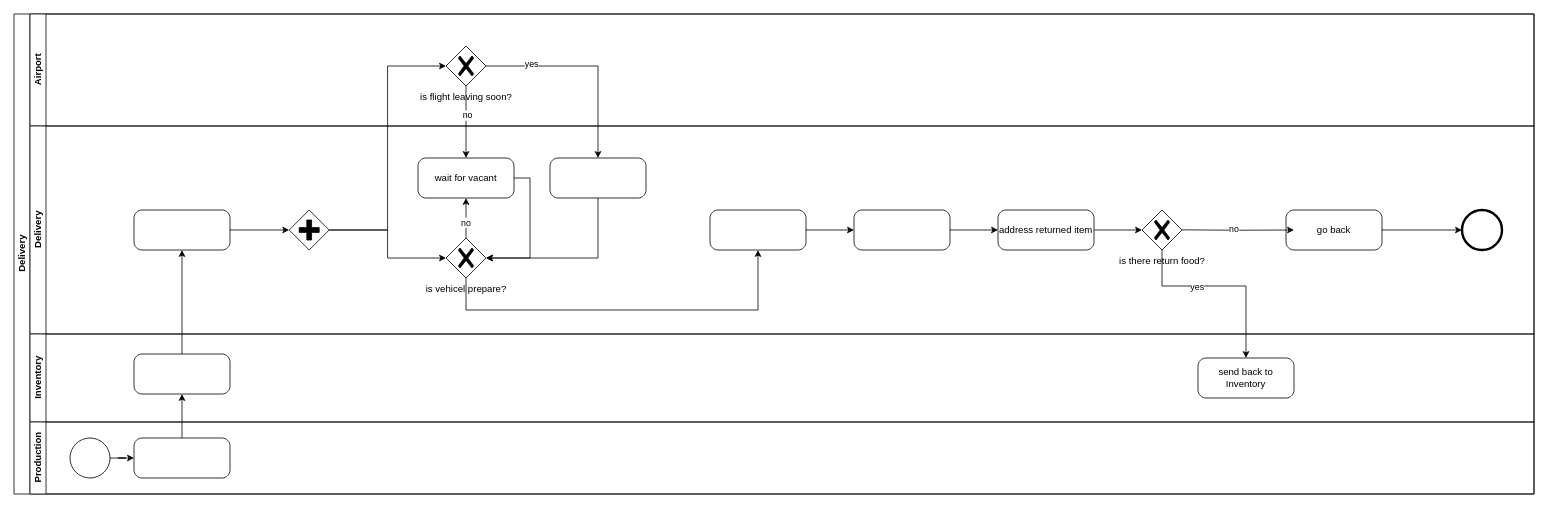
Some shapes in this 1548 by 508 pixel diagram are drawn without their labels. The centre of each missing label's shape, as x and y in pixels:
get items prepared: the point at 181,373
mobilized another fleet: the point at 597,177
order conformation: the point at 901,229
prepare vehicle: the point at 181,229
receive order from S&M Dept.: the point at 181,457
send to flight: the point at 757,229
